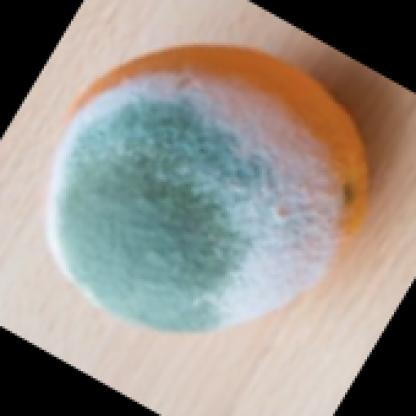rotten: (49, 45, 371, 336)
